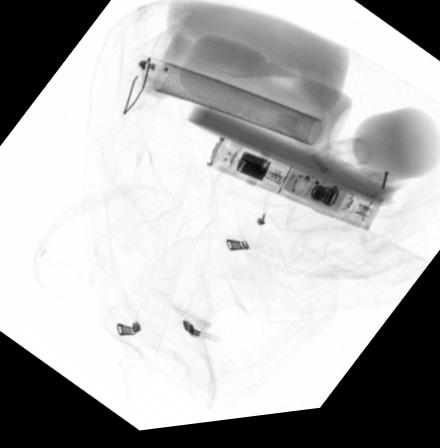Baton: (202, 136, 385, 241)
